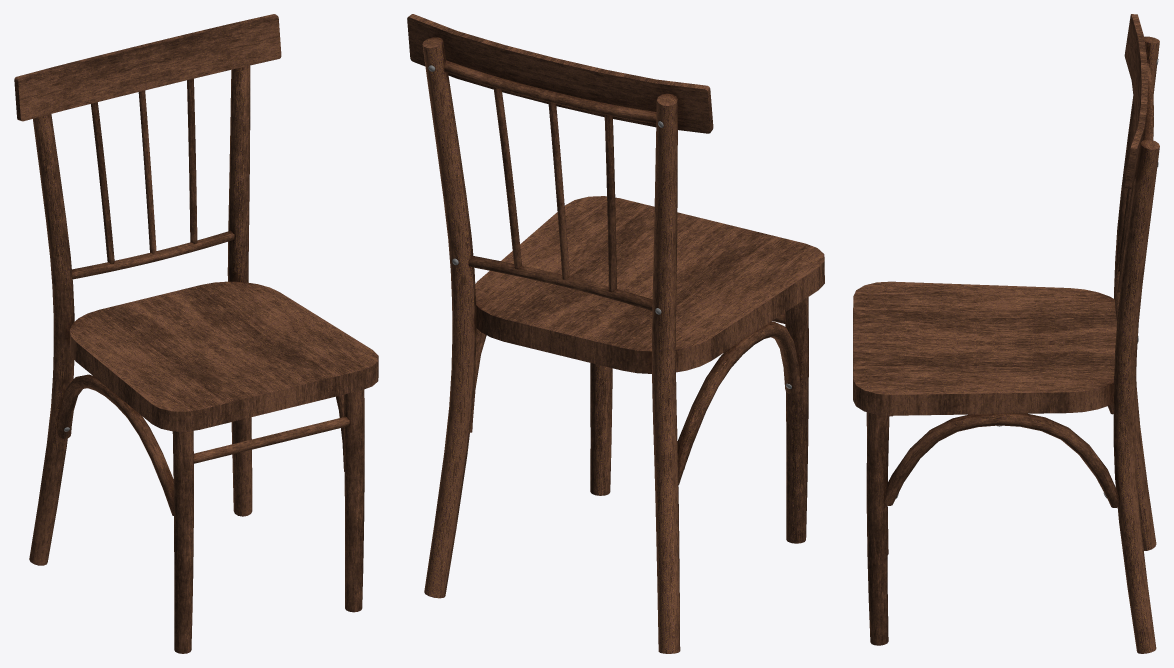
The model's file is Wood_chair_1_low.fbx.
The picture shows the model from 3 angles, left to right: view 1: azimuth 30°, elevation 25°; view 2: azimuth 150°, elevation 25°; view 3: azimuth 270°, elevation 25°; orthographic projection. The views are drawn at different scales.
Visible parts, largest first — view 1: Legs_l; view 2: Legs_l; view 3: Legs_l.
Boxes of the visible parts, x1,y1,x2,y2 form: Legs_l: (14,14,378,653); Legs_l: (407,14,824,653); Legs_l: (853,14,1159,653).
Size of the model in its own units: 67.39 by 122 by 65.17.
